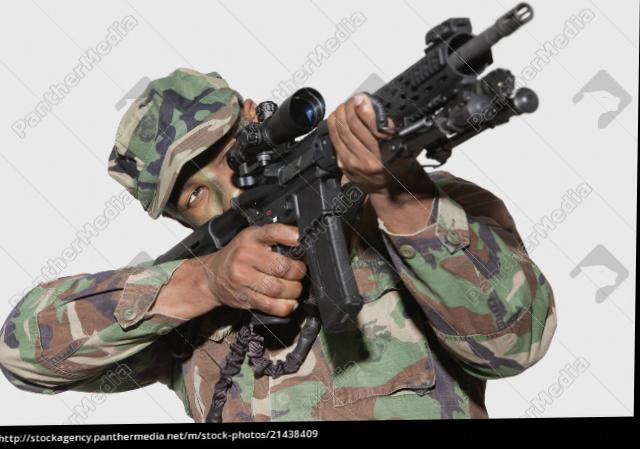other: (30, 69, 520, 420)
